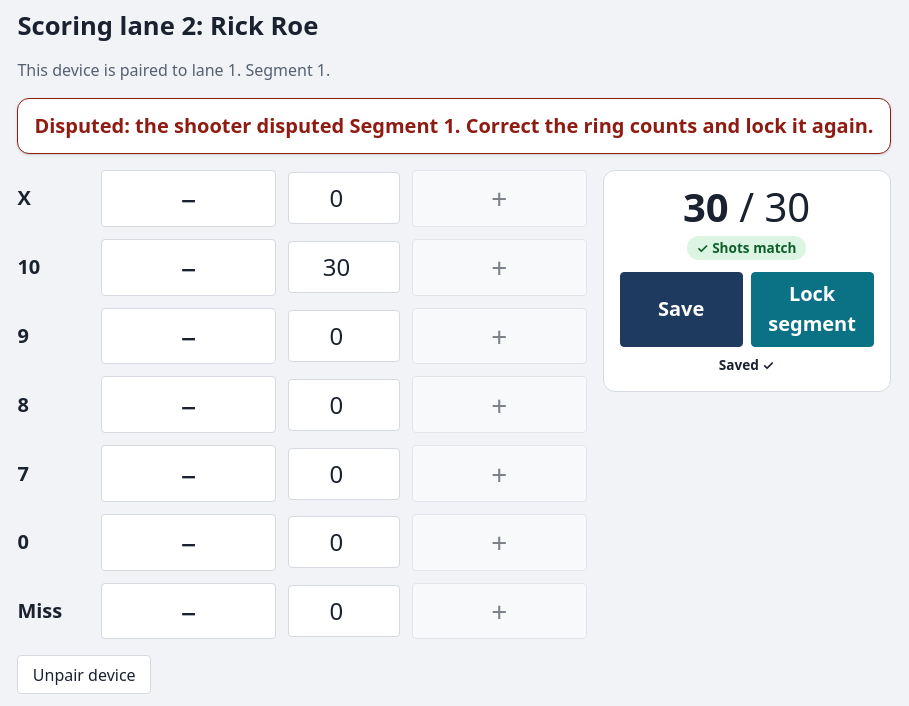
Test case: Scorer › keeps Lock segment disabled until the edited counts are saved
Check: the button "Lock segment" is enabled, box [751, 272, 874, 347]
Check: the text "Saved ✓" is shown, box [719, 355, 774, 374]
Step 1. Click the button named "Decrease 10" → (189, 267), box [101, 239, 276, 296]
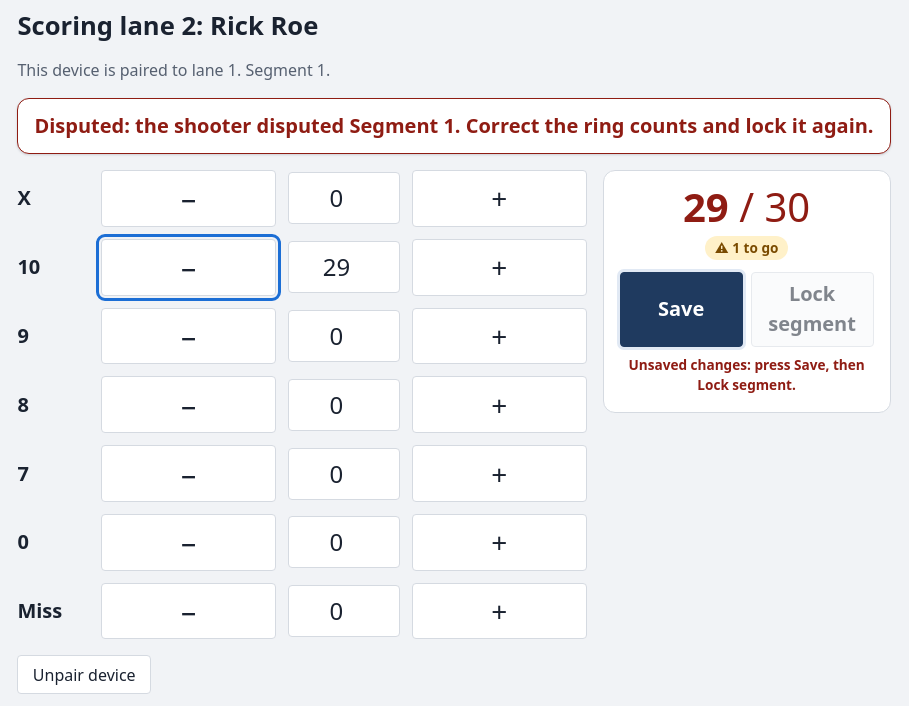
Step 2. Click the button named "Increase 9" → (499, 336), box [412, 308, 587, 364]
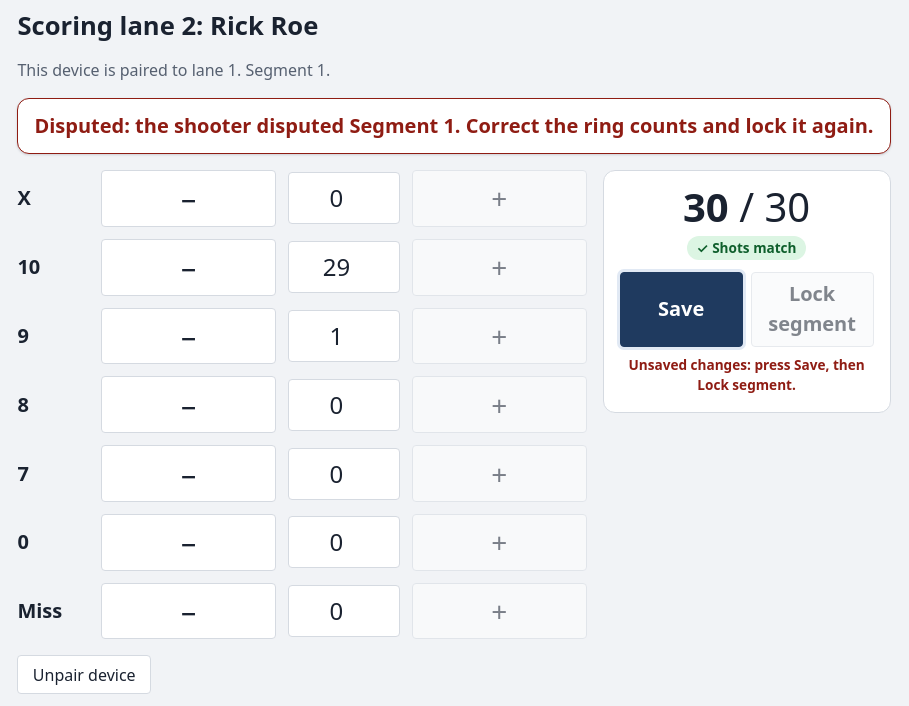
Check: the button "Lock segment" is disabled, box [751, 272, 874, 347]
Check: the text "Unsaved changes: press Save, then Lock segment." is shown, box [620, 355, 874, 396]
Step 3. Click the button "Save" → (681, 309), box [620, 272, 743, 347]
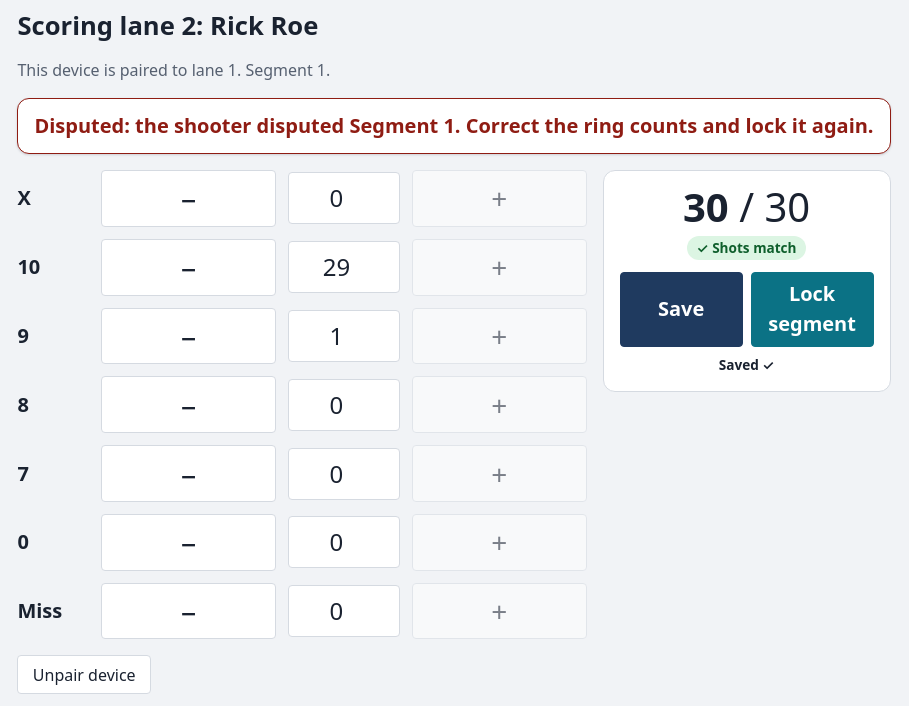
Check: the text "Saved ✓" is shown, box [719, 355, 774, 374]
Check: the button "Lock segment" is enabled, box [751, 272, 874, 347]
